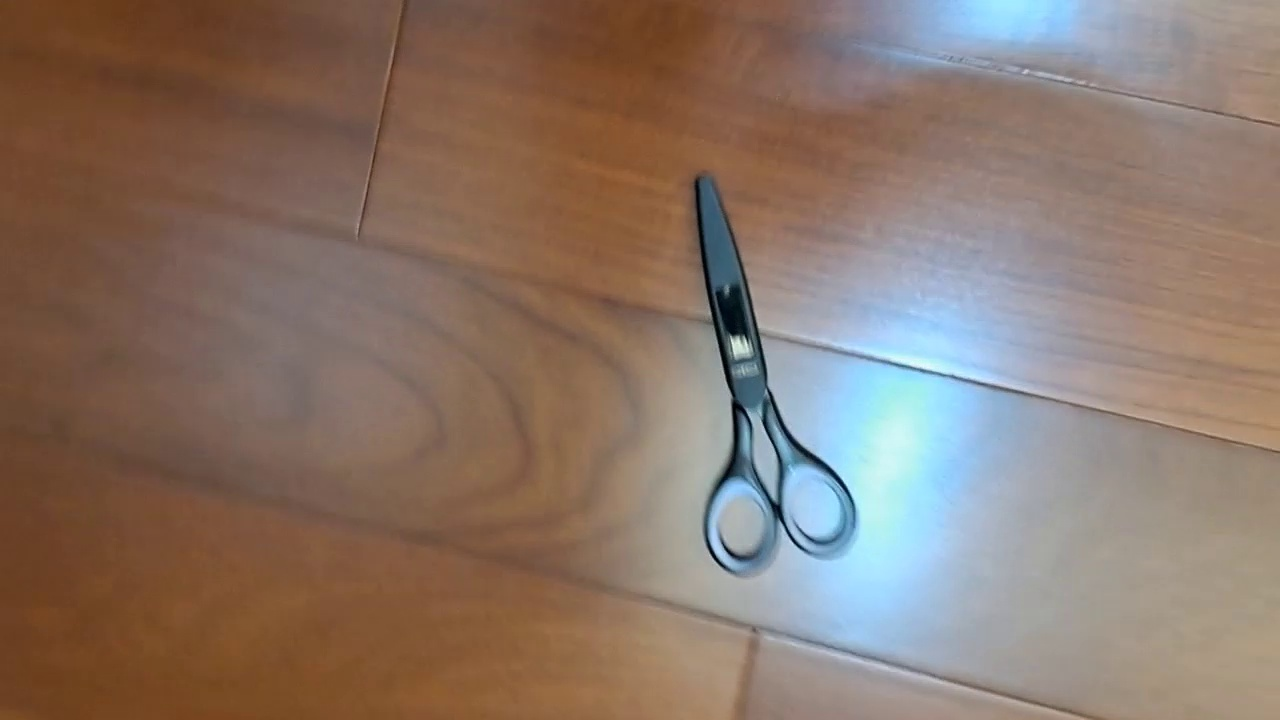scissors: (693, 168, 860, 578)
